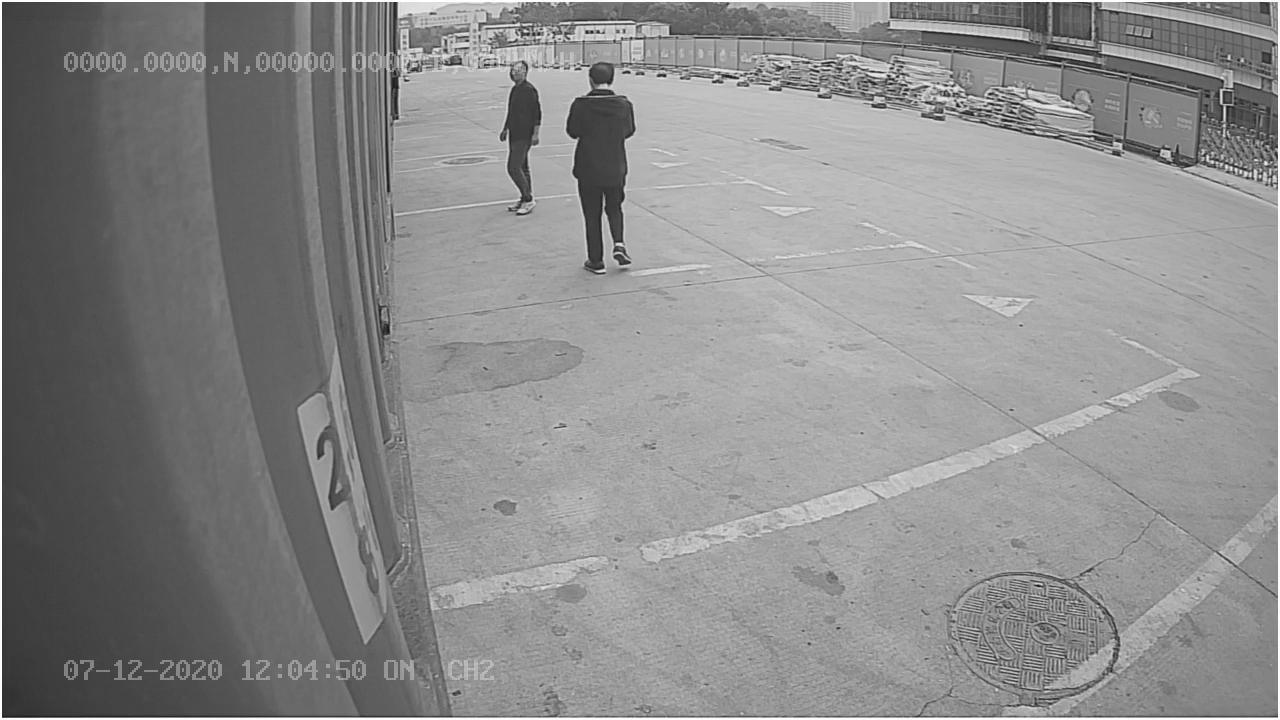person: (565, 59, 640, 275)
